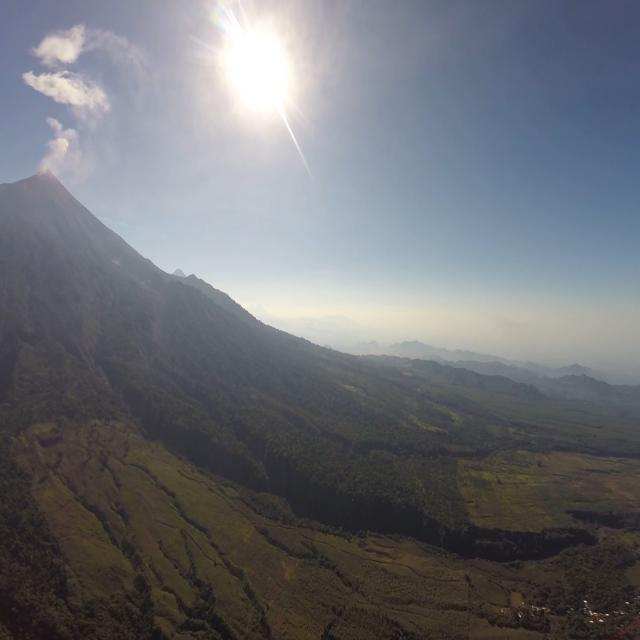Plume: (20, 68, 114, 110), (36, 111, 82, 179), (28, 22, 88, 66)
Summit: (18, 165, 72, 194)
